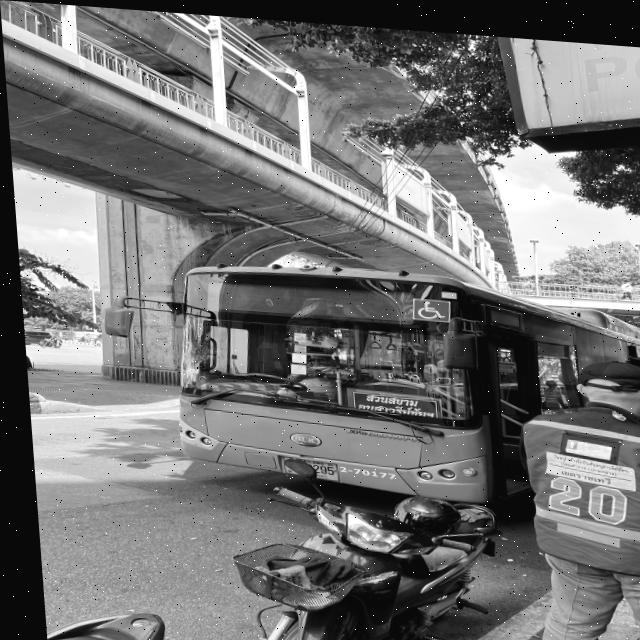BMTA-bus: (163, 255, 631, 514)
Bus-Line-Number: (330, 283, 410, 316)
Destination-Sign-Normal: (349, 388, 433, 411)
